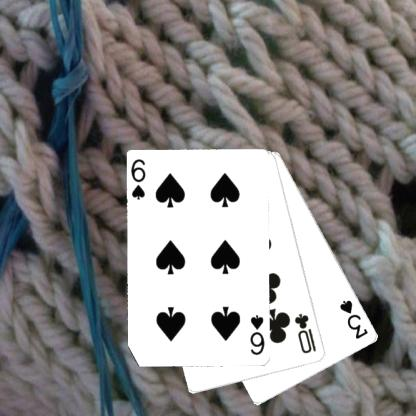10C: (292, 310, 318, 356)
3S: (336, 298, 370, 340)
6S: (248, 312, 266, 357), (130, 157, 147, 201)
